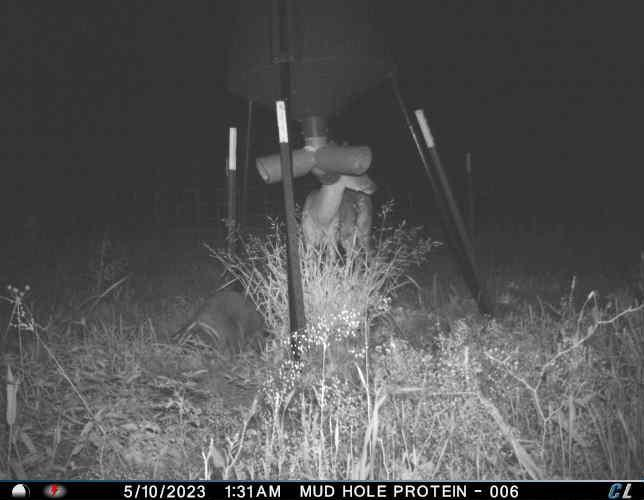Deer: (299, 136, 379, 275)
Raccoon: (179, 285, 280, 359)
